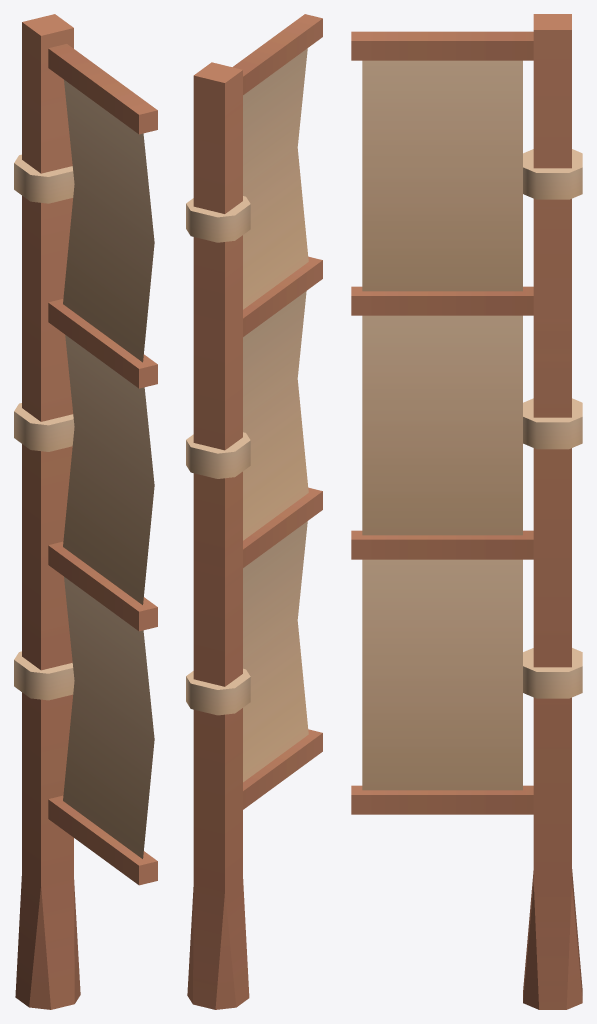
The model's file is windmill_blade.glb.
3 renders of one model, left to right at view 1: azimuth 30°, elevation 25°; view 2: azimuth 150°, elevation 25°; view 3: azimuth 270°, elevation 25°, orthographic. The views are drawn at different scales.
Visible parts, largest first — view 1: blade; view 2: blade; view 3: blade.
Part boxes in pixels (x1,y1,x2,y2): blade: (14, 14, 157, 1009); blade: (186, 14, 322, 1009); blade: (351, 14, 582, 1009).
Bounding box in the file's own units: 0.1111 × 2 × 0.4304.
1 material, 1 textured.
